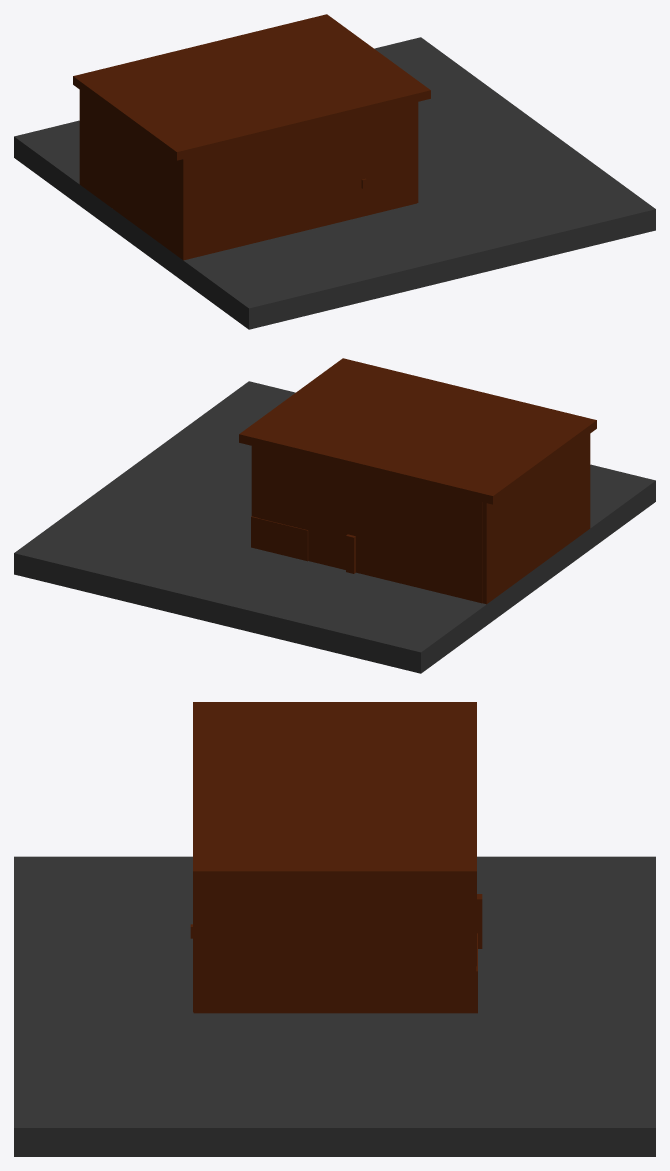
File: Level.fbx
The picture shows the model from 3 angles, top to bottom: view 1: azimuth 30°, elevation 25°; view 2: azimuth 150°, elevation 25°; view 3: azimuth 270°, elevation 25°; orthographic projection. The views are drawn at different scales.
Visible parts, largest first — view 1: Floor, Ceiling, RightWall, BackWall; view 2: Floor, Ceiling, LeftWall, BackWall, SM_BalconyWithHiddenRoom, FrontWall, RightWall; view 3: Floor, Ceiling, FrontWall, SM_BalconyWithHiddenRoom.
Part boxes in pixels (<box>): Floor: <box>14,37,655,329</box>; Ceiling: <box>73,14,430,160</box>; RightWall: <box>178,102,416,260</box>; BackWall: <box>79,90,183,259</box>; Floor: <box>14,381,655,673</box>; Ceiling: <box>239,358,596,504</box>; LeftWall: <box>259,447,482,603</box>; BackWall: <box>482,435,590,604</box>; SM_BalconyWithHiddenRoom: <box>251,516,308,561</box>; FrontWall: <box>251,446,258,517</box>; RightWall: <box>585,434,590,531</box>; Floor: <box>14,856,655,1156</box>; Ceiling: <box>193,702,476,882</box>; FrontWall: <box>193,883,476,1013</box>; SM_BalconyWithHiddenRoom: <box>195,933,477,1013</box>.
Size of what is drawn, in the model's own units: 5080 by 5000 by 1540.
